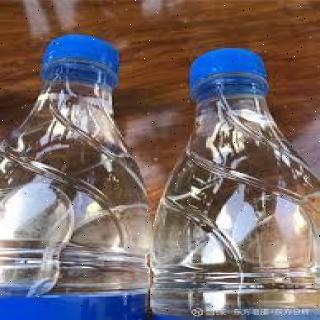Plastic-bottle: (146, 46, 320, 320), (1, 33, 158, 320)
